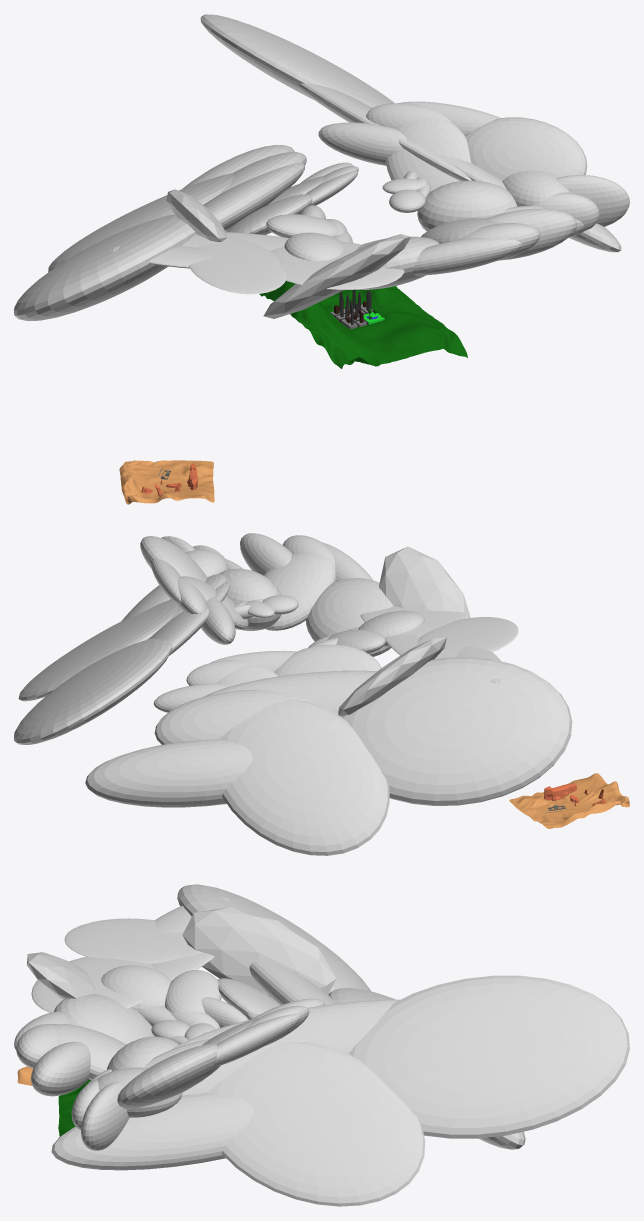
The model's file is Level2.fbx.
3 renders of one model, top to bottom at view 1: azimuth 30°, elevation 25°; view 2: azimuth 150°, elevation 25°; view 3: azimuth 270°, elevation 25°, orthographic. The views are drawn at different scales.
Visible parts, largest first — view 1: Cloud.009, Cloud.006, Cloud.007, Cloud.003, Cloud.002, Terrain, Cloud, Icosphere.001, Terrain.001, Cloud.005, Cloud.004, Icosphere (+1 smaller); view 2: Cloud.009, Cloud.007, Cloud.002, Cloud.005, Cloud.006, Cloud, Icosphere.001, Terrain.001, Cloud.003, Icosphere, Cloud.004, Cloud.001; view 3: Cloud.007, Cloud.002, Cloud, Icosphere, Cloud.006, Cloud.009, Cloud.004, Cloud.003, Icosphere.001, Cloud.005, Cloud.001, Terrain.
Boxes of the visible parts, <box> form: Cloud.009: <box>14,145,306,320</box>; Cloud.006: <box>318,101,587,191</box>; Cloud.007: <box>200,14,621,252</box>; Cloud.003: <box>417,170,629,236</box>; Cloud.002: <box>355,208,576,289</box>; Terrain: <box>259,281,467,368</box>; Cloud: <box>111,232,404,294</box>; Icosphere.001: <box>263,234,410,318</box>; Terrain.001: <box>119,460,214,504</box>; Cloud.005: <box>226,162,358,234</box>; Cloud.004: <box>266,205,352,261</box>; Icosphere: <box>166,189,226,242</box>; Cloud.009: <box>85,657,572,855</box>; Cloud.007: <box>14,573,229,744</box>; Cloud.002: <box>240,533,393,656</box>; Cloud.005: <box>153,644,381,712</box>; Cloud.006: <box>140,536,248,644</box>; Cloud: <box>360,606,518,682</box>; Icosphere.001: <box>379,546,470,618</box>; Terrain.001: <box>509,773,629,828</box>; Cloud.003: <box>161,536,280,630</box>; Icosphere: <box>338,637,446,716</box>; Cloud.004: <box>308,610,424,653</box>; Cloud.001: <box>234,595,298,618</box>; Cloud.007: <box>51,975,629,1206</box>; Cloud.002: <box>14,994,154,1096</box>; Cloud: <box>31,896,228,1012</box>; Icosphere: <box>182,907,336,997</box>; Cloud.006: <box>117,998,324,1109</box>; Cloud.009: <box>177,884,525,1149</box>; Cloud.004: <box>101,965,247,1029</box>; Cloud.003: <box>71,1036,182,1150</box>; Icosphere.001: <box>27,952,95,999</box>; Cloud.005: <box>217,978,280,1019</box>; Cloud.001: <box>151,1020,215,1044</box>; Terrain: <box>58,1079,90,1137</box>.
Size of the model in its own units: 6511 by 2674 by 6192.
